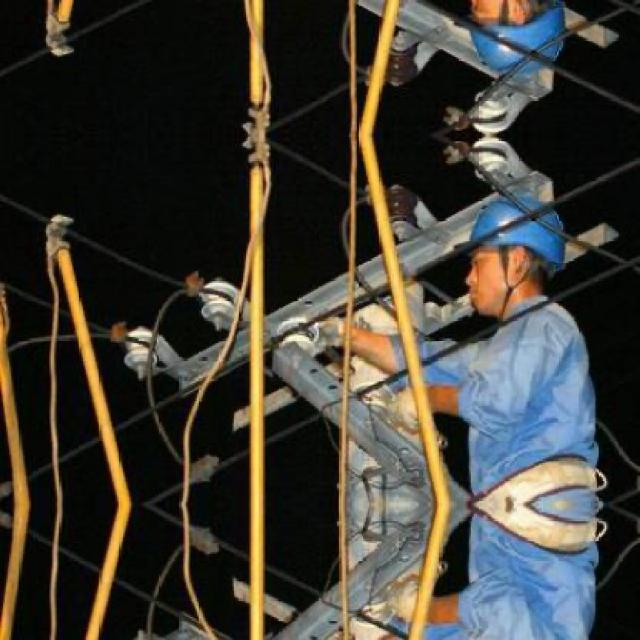helmet: (451, 190, 566, 312), (450, 0, 568, 80)
